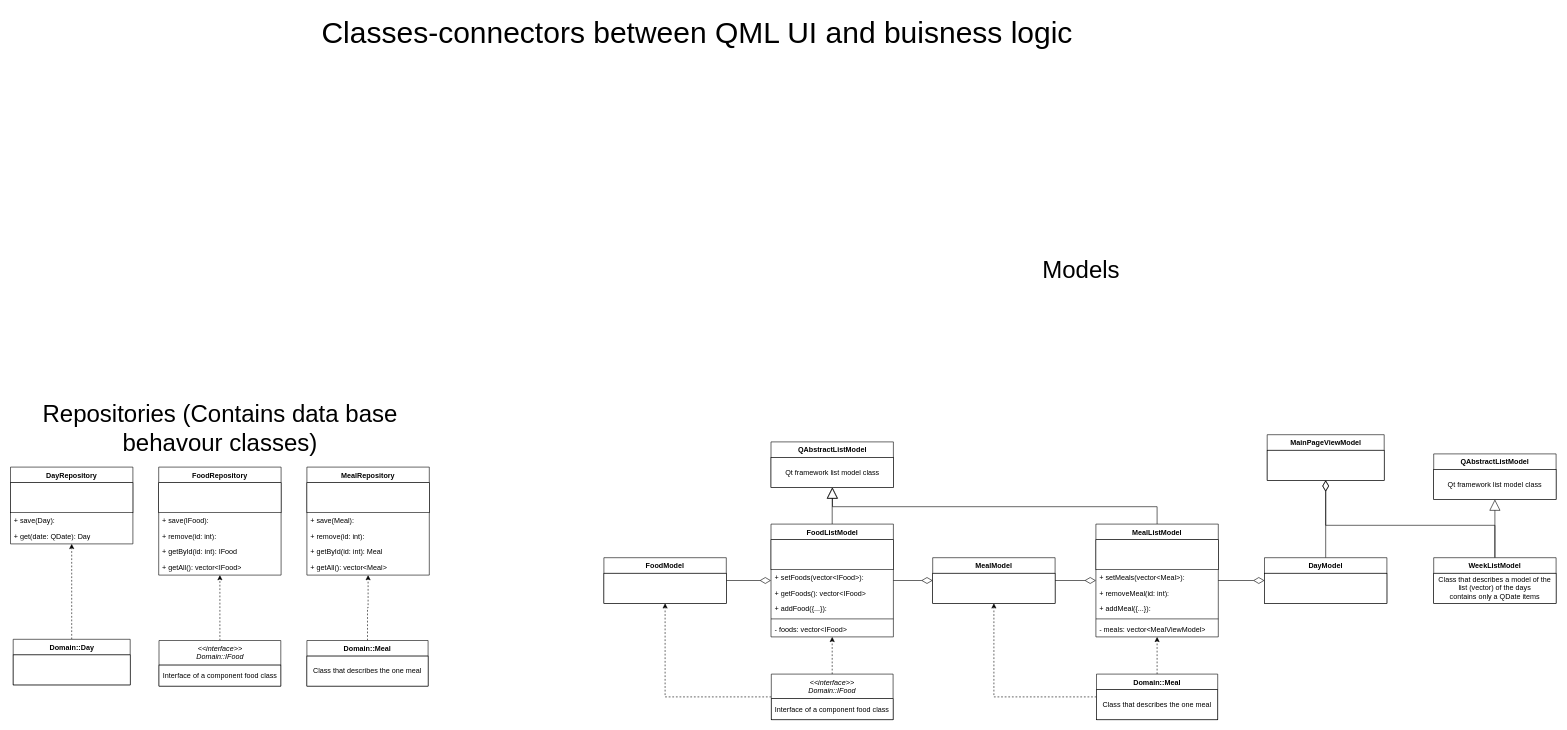
Image size: 1567x730. Some labels were removed from this diagram. The centre of each missing label's shape, as x and y in pixels:
Class that describes a day of measurements: point (71, 669)
Class that describes a day repository: point (71, 497)
Class that describes a food repository: point (219, 497)
Class that describes a meal repository: point (367, 497)
Class that describes a model of the list (vector) of the foods: point (831, 554)
Class that describes a model of the list (vector) of the meals: point (1156, 554)
Class that describes a model of the one day: point (1325, 588)
Class that describes a model of the one food: point (664, 588)
Class that describes a model of the one meal: point (993, 588)
Main page ui handler: point (1325, 465)
